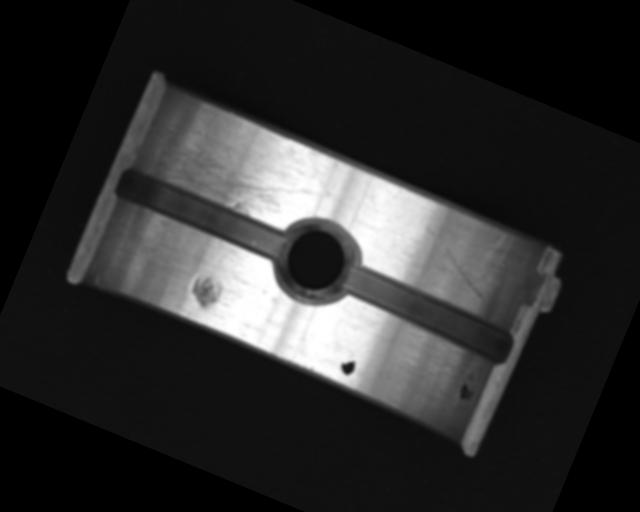blot: (455, 369, 482, 405), (336, 350, 360, 378)
bruise: (185, 269, 227, 313)
gap: (332, 258, 520, 369), (112, 163, 292, 266)
hole: (264, 208, 368, 314)
nick: (406, 223, 505, 304)
scratch: (140, 105, 321, 235)
